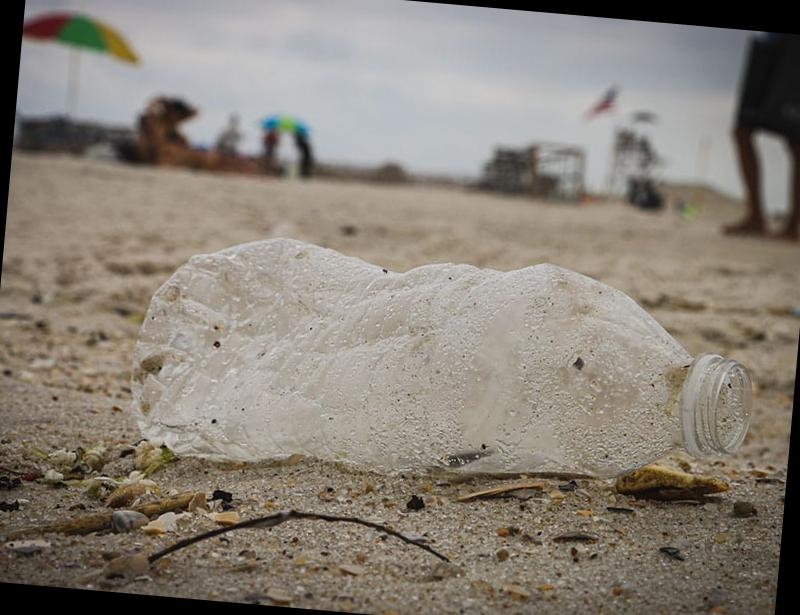plastic: (102, 189, 776, 554)
